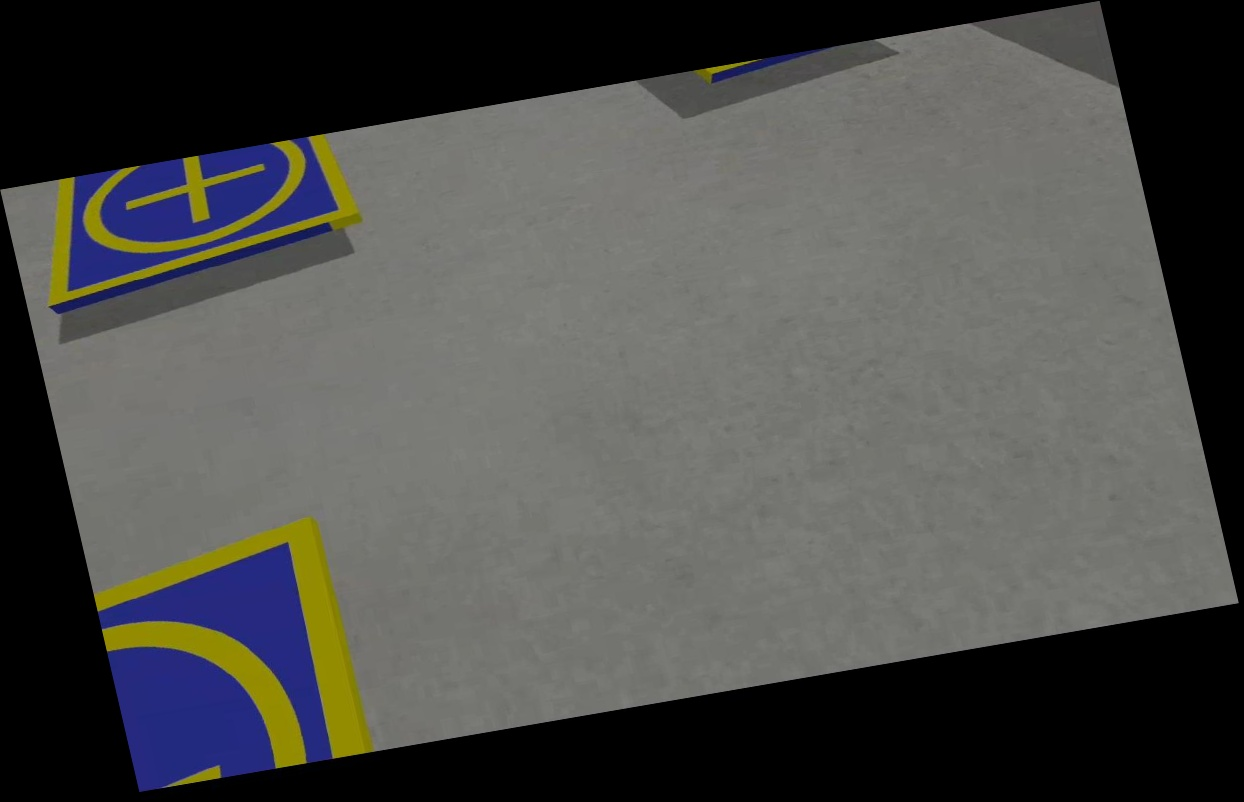small_base: (85, 516, 376, 791), (18, 130, 376, 319)
